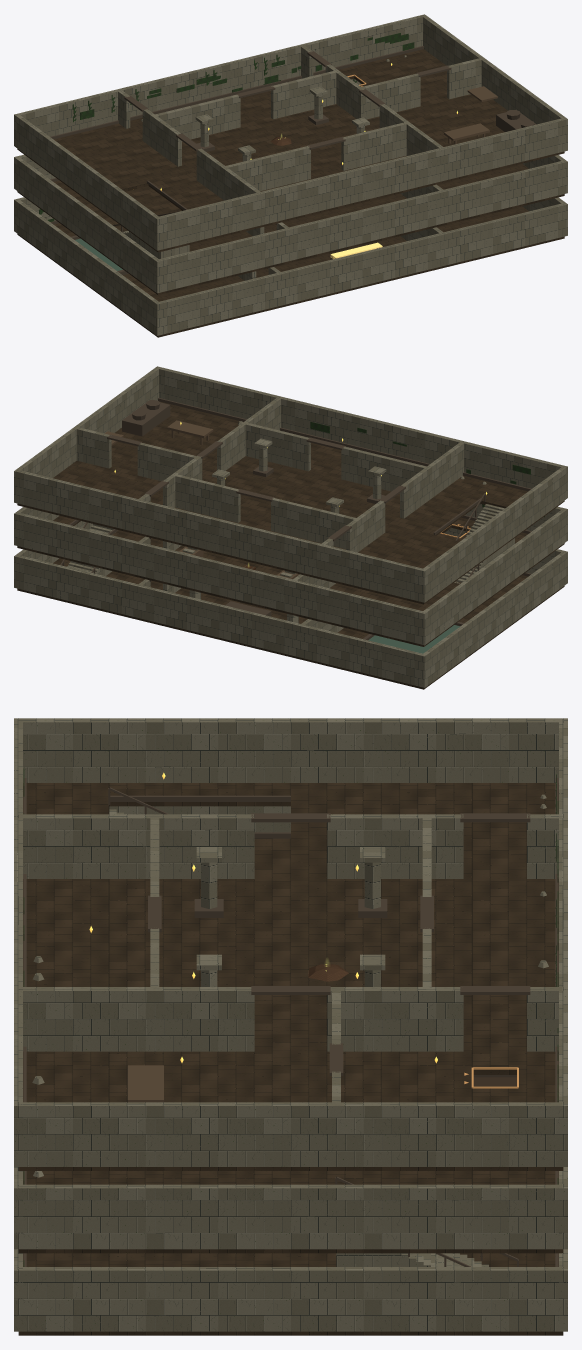
The model's file is 遗迹回声_金光遗迹.glb.
The picture shows the model from 3 angles, top to bottom: view 1: azimuth 30°, elevation 25°; view 2: azimuth 150°, elevation 25°; view 3: azimuth 270°, elevation 25°; orthographic projection. The views are drawn at different scales.
Parts seen in each view (by area): view 1: L1_Walkable_Slab, L1_South, L3_South, L2_South, L1_North, L3_West, L1_West, L2_West, L2_Walkable_Slab, L1_East, L3_Walkable_Slab, Hall_South_wall (+12 smaller); view 2: L1_Walkable_Slab, L1_North, L3_North, L2_North, L1_South, L2_West, L3_West, L1_West, L1_East, L2_Walkable_Slab, L3_Walkable_Slab, Hall_North_wall (+14 smaller); view 3: L1_Walkable_Slab, L2_East, L3_East, L1_East, L1_West, Hall_East_wall, Hall_West_wall, L2_Walkable_Slab, Hall_East_wall.001, L3_Walkable_Slab, Hall_West_wall.001, L1_South (+13 smaller).
Boxes of the visible parts, x1=… form: L1_Walkable_Slab: x1=17, y1=49, x2=564, y2=252; L1_South: x1=155, y1=117, x2=567, y2=250; L3_South: x1=155, y1=203, x2=567, y2=335; L2_South: x1=155, y1=160, x2=567, y2=293; L1_North: x1=14, y1=14, x2=425, y2=146; L3_West: x1=15, y1=199, x2=158, y2=333; L1_West: x1=15, y1=114, x2=159, y2=248; L2_West: x1=15, y1=157, x2=159, y2=291; L2_Walkable_Slab: x1=17, y1=164, x2=564, y2=294; L1_East: x1=422, y1=15, x2=565, y2=124; L3_Walkable_Slab: x1=17, y1=206, x2=564, y2=337; Hall_South_wall: x1=223, y1=145, x2=310, y2=191; L1_Walkable_Slab: x1=17, y1=401, x2=564, y2=604; L1_North: x1=14, y1=469, x2=426, y2=602; L3_North: x1=14, y1=555, x2=426, y2=687; L2_North: x1=14, y1=512, x2=426, y2=645; L1_South: x1=156, y1=366, x2=567, y2=498; L2_West: x1=422, y1=509, x2=566, y2=643; L3_West: x1=423, y1=551, x2=566, y2=685; L1_West: x1=423, y1=466, x2=566, y2=600; L1_East: x1=16, y1=367, x2=159, y2=478; L2_Walkable_Slab: x1=17, y1=516, x2=564, y2=646; L3_Walkable_Slab: x1=17, y1=558, x2=564, y2=689; Hall_North_wall: x1=271, y1=497, x2=358, y2=548; L1_Walkable_Slab: x1=18, y1=783, x2=563, y2=1170; L2_East: x1=18, y1=1184, x2=563, y2=1249; L3_East: x1=18, y1=1267, x2=563, y2=1331; L1_East: x1=18, y1=1102, x2=563, y2=1166; L1_West: x1=19, y1=718, x2=561, y2=782; Hall_East_wall: x1=19, y1=987, x2=254, y2=1051; Hall_West_wall: x1=18, y1=814, x2=254, y2=878; L2_Walkable_Slab: x1=18, y1=1171, x2=563, y2=1253; Hall_East_wall.001: x1=327, y1=987, x2=463, y2=1051; L3_Walkable_Slab: x1=18, y1=1253, x2=563, y2=1335; Hall_West_wall.001: x1=327, y1=814, x2=463, y2=878; L1_South: x1=14, y1=718, x2=22, y2=1166.
Size of the model in its own units: 50.5 by 14.06 by 30.5.
Materials: 16 (6 with a texture image).
